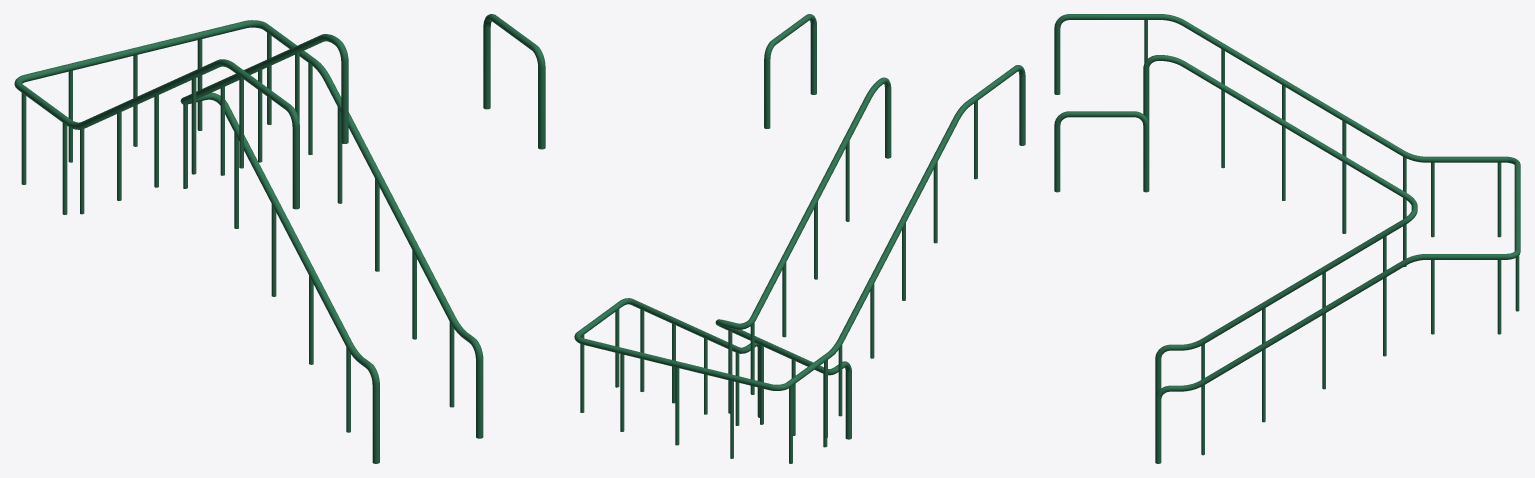
File: Railings_B_Stairs_Base.FBX
3 renders of one model, left to right at view 1: azimuth 30°, elevation 25°; view 2: azimuth 150°, elevation 25°; view 3: azimuth 270°, elevation 25°, orthographic. The views are drawn at different scales.
Parts seen in each view (by area): view 1: Railings_B_Stairs_Base; view 2: Railings_B_Stairs_Base; view 3: Railings_B_Stairs_Base.
Boxes of the visible parts, <box> form: Railings_B_Stairs_Base: <box>14,14,545,463</box>; Railings_B_Stairs_Base: <box>574,14,1025,463</box>; Railings_B_Stairs_Base: <box>1054,14,1520,463</box>.
Bounding box in the file's own units: 390 × 640 × 770.
